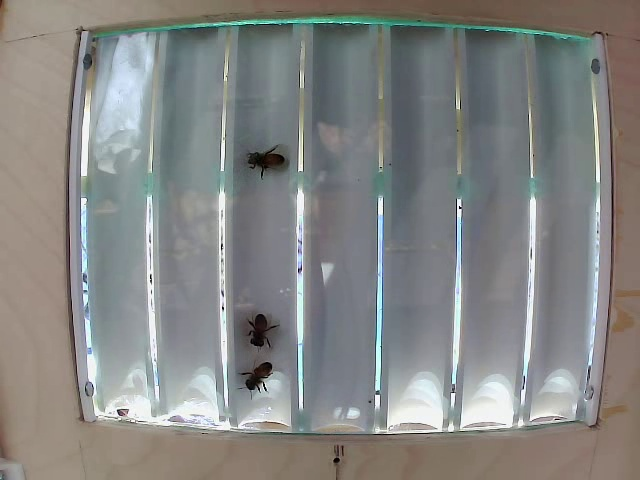bee: (231, 352, 291, 404), (235, 296, 284, 348), (248, 138, 287, 181)
